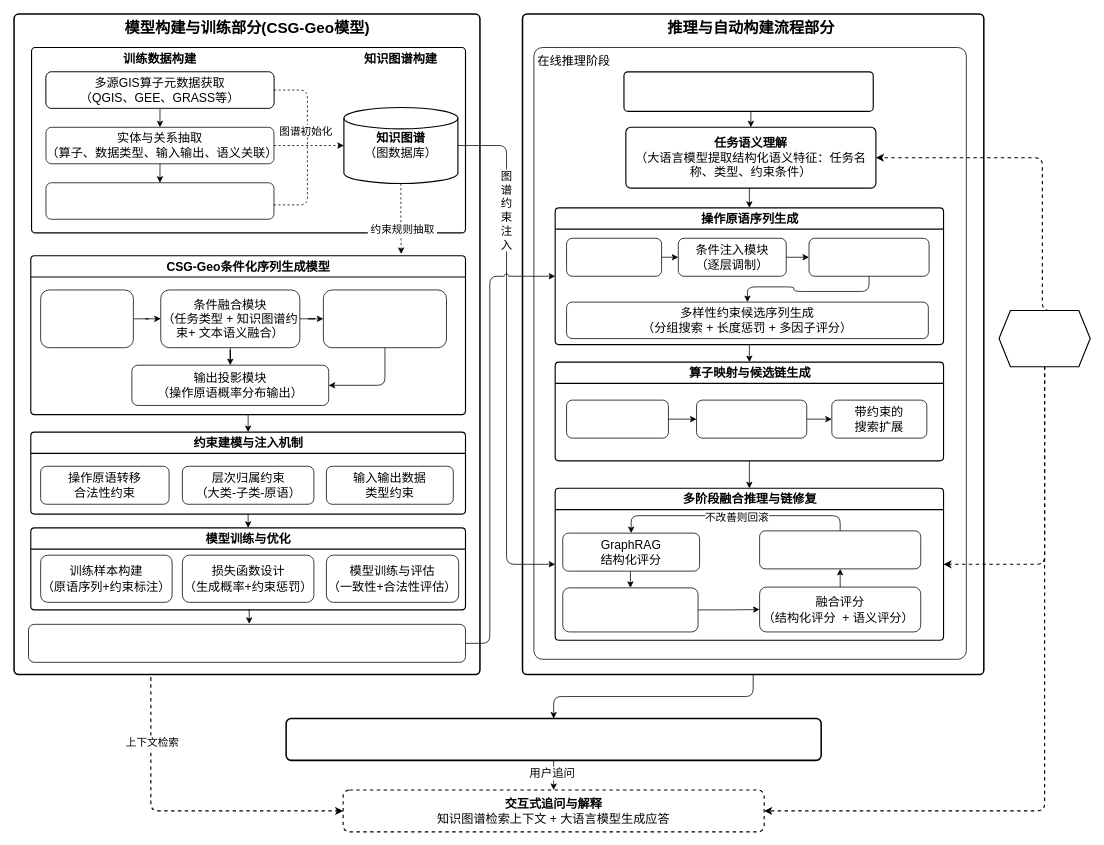
The diagram is 1104 pixels wide and 845 high, and some of its shapes have lost their labels. The shapes that lost their labels are listed below. From the top down, each one's centre as x and y in pixels, then its label:
At point 748,91: "自然语言任务描述 （用户输入）".
At point 159,200: "图数据库存储与管理".
At point 614,257: "文本编码器 （语义编码）".
At point 868,257: "序列生成解码器 （自回归生成）".
At point 86,318: "文本编码模块 （任务文本编码）".
At point 384,318: "条件化解码模块 （Transformer 解码器+ 约束感知调制）".
At point 1044,338: "大语言模型 （LLM）".
At point 617,418: "语义相似度 融合评分".
At point 751,418: "I/O类型归一化 与兼容性评估".
At point 840,549: "迭代链修复 （替代搜索+回滚）".
At point 630,609: "语义评分 （大语言模型）".
At point 247,643: "CSG-Geo模型".
At point 553,739: "最优地理处理模型 （可执行算子链 + 结构化描述）".
